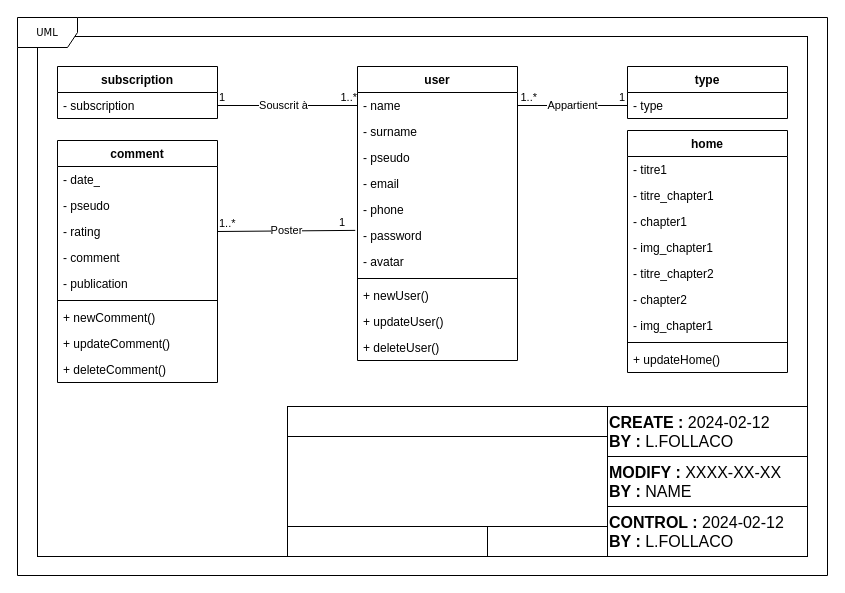
The diagram is 845 pixels wide and 593 high, and some of its shapes have lost their labels. Here are the shapes that lost their labels. From the top down, the centre of each, then its label:
At point 447,421: "DESIGNATION".
At point 447,481: "Diagramme de classe Projet Club GOLDORAK".
At point 387,541: "Ref. : 2404DG001".
At point 547,541: "Rev. : 01".
